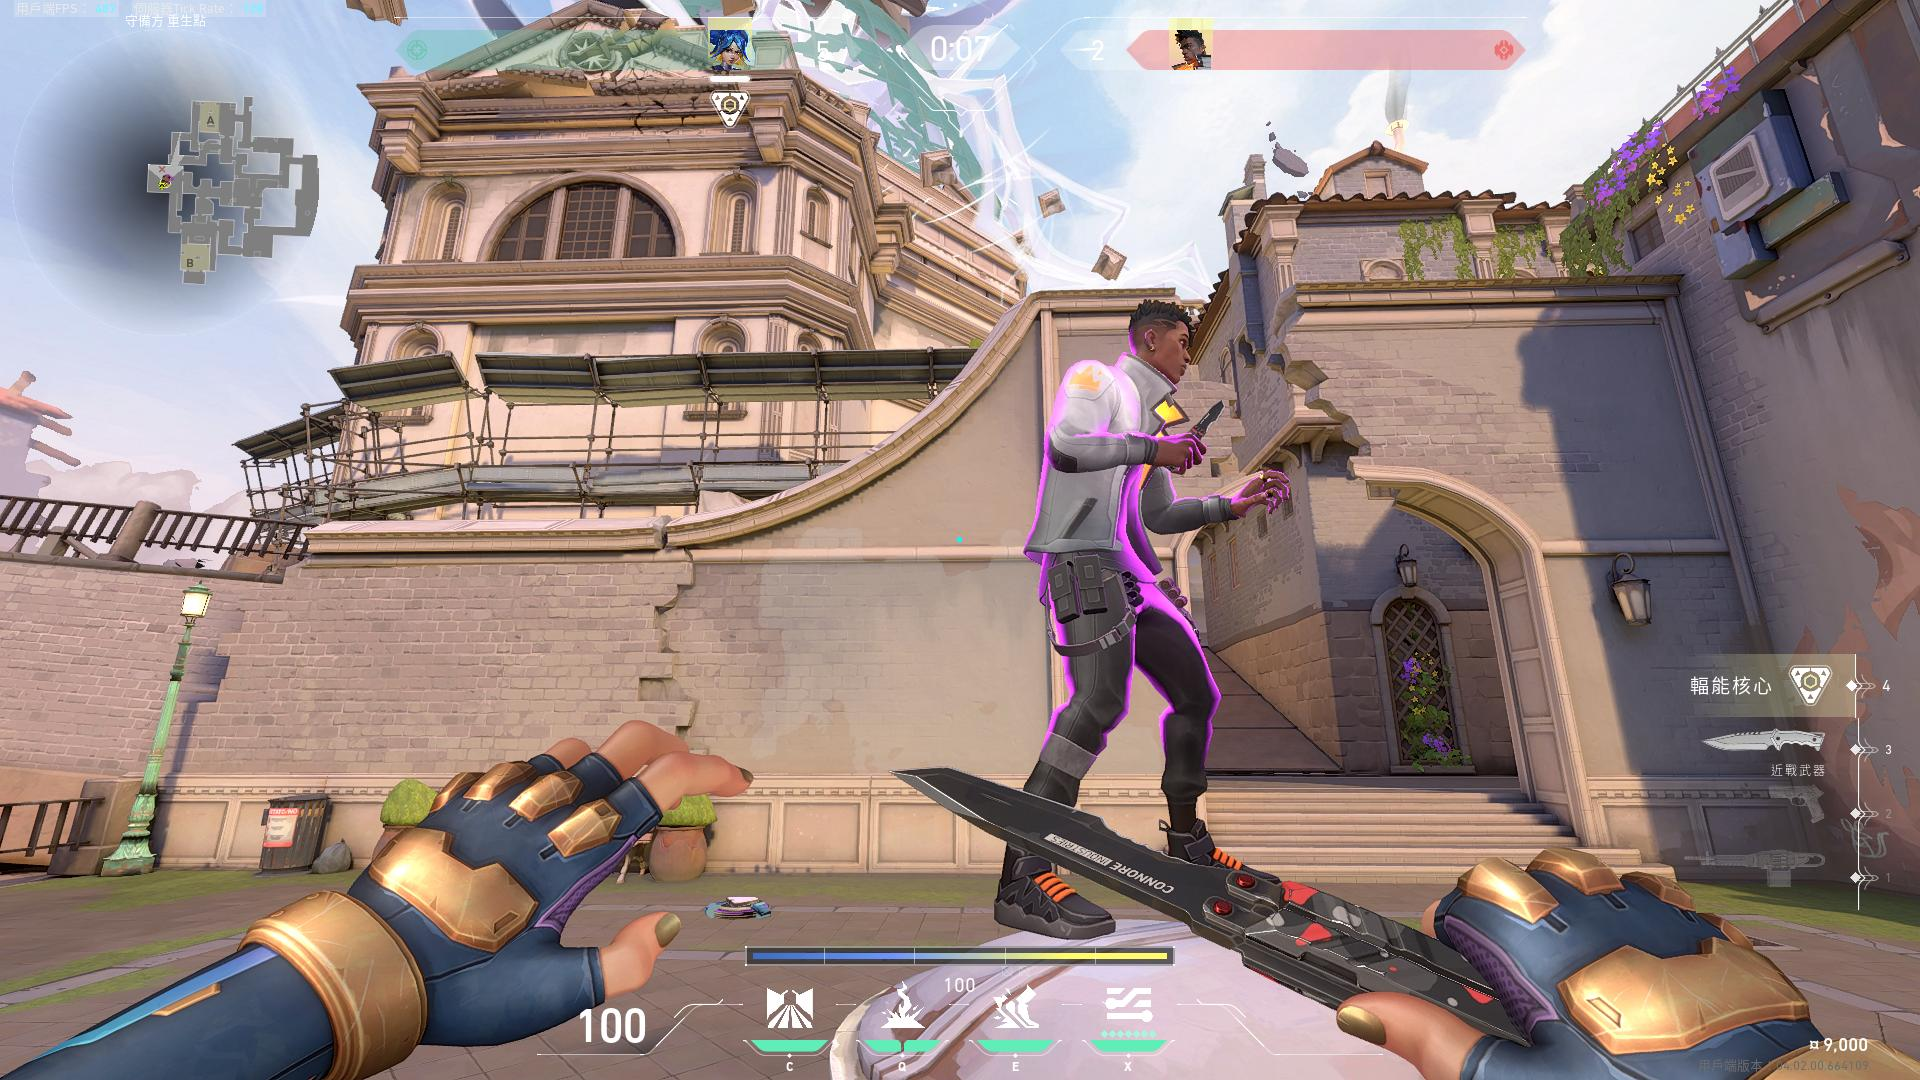enemyBody: (1071, 376, 1163, 541)
enemyHead: (1145, 316, 1184, 369)
